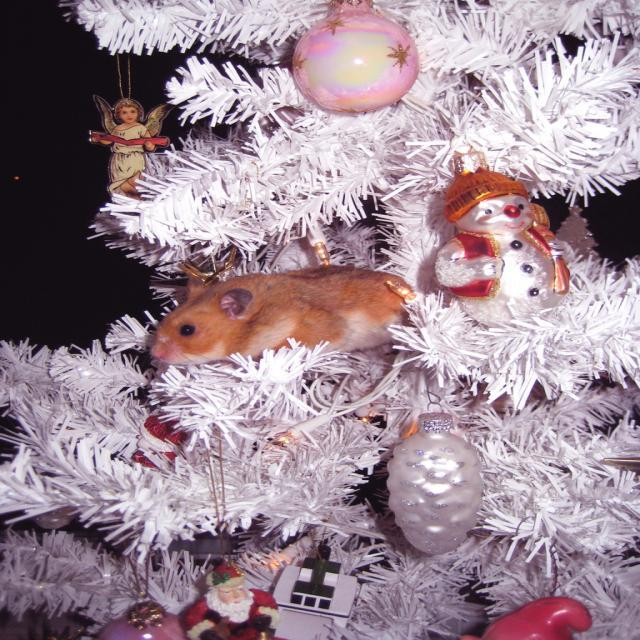rat: (144, 256, 414, 369)
